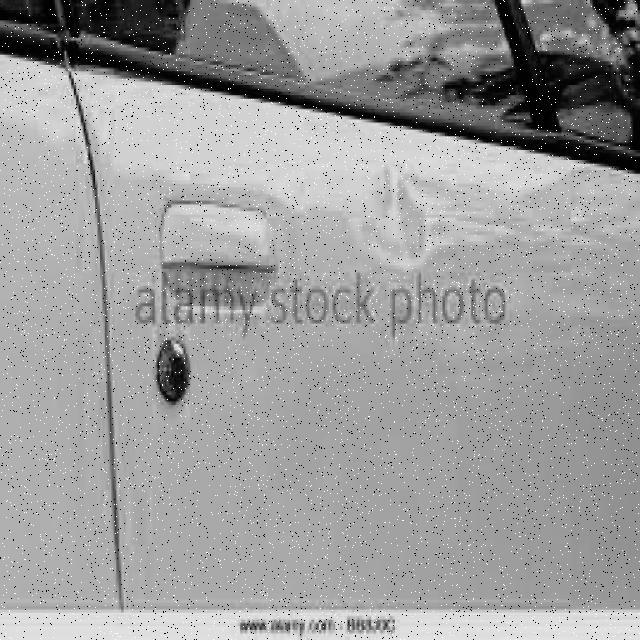car damage: (358, 164, 440, 274)
